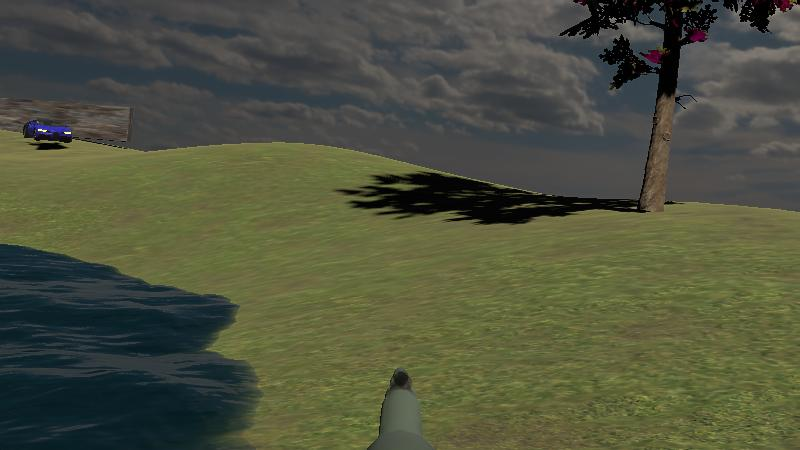car: (20, 115, 76, 145)
